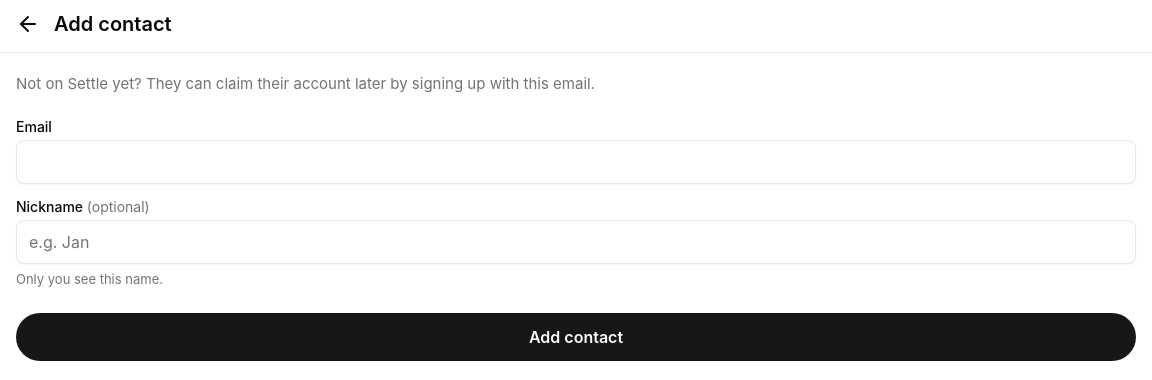
AddContactPage › maps field violations onto their inputs
Type "jan@example.com" into the field labelled "Email" at (576, 162), box x1=16 y1=140 x2=1136 y2=184
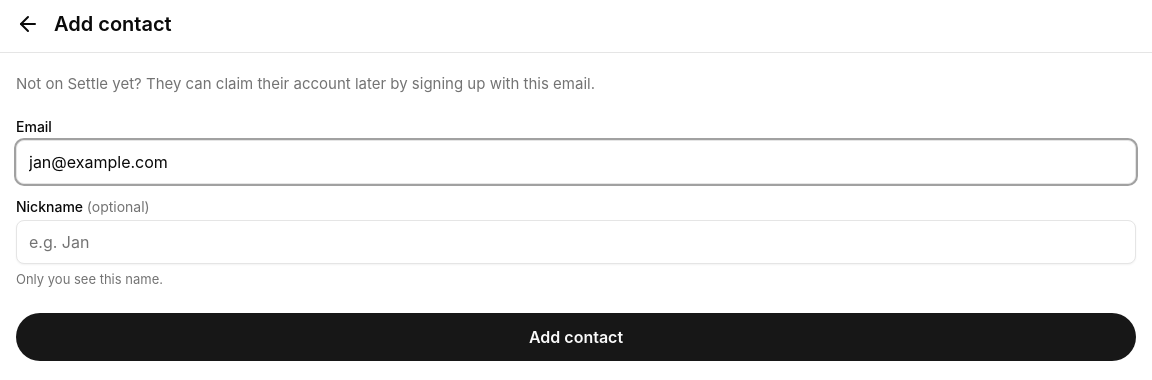
Click the button "Add contact" at (576, 337), box x1=16 y1=313 x2=1136 y2=361
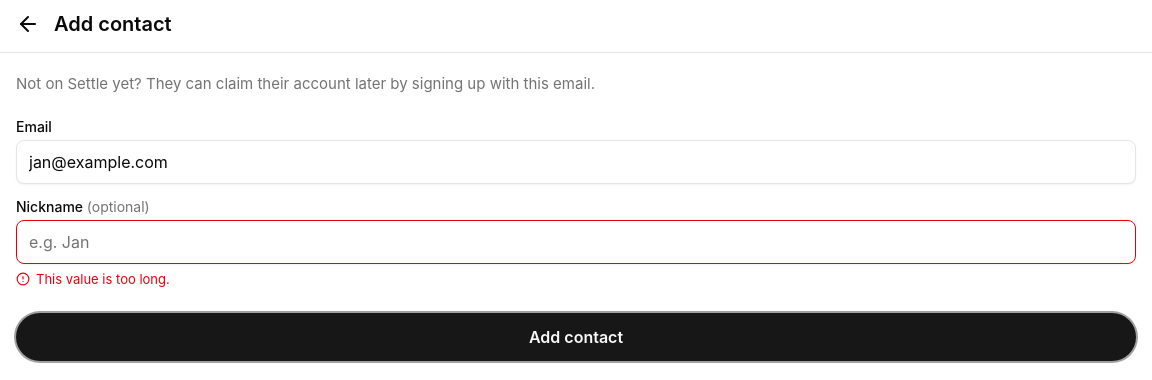
Expected: the text "This value is too long." is shown, x1=16 y1=270 x2=170 y2=286
